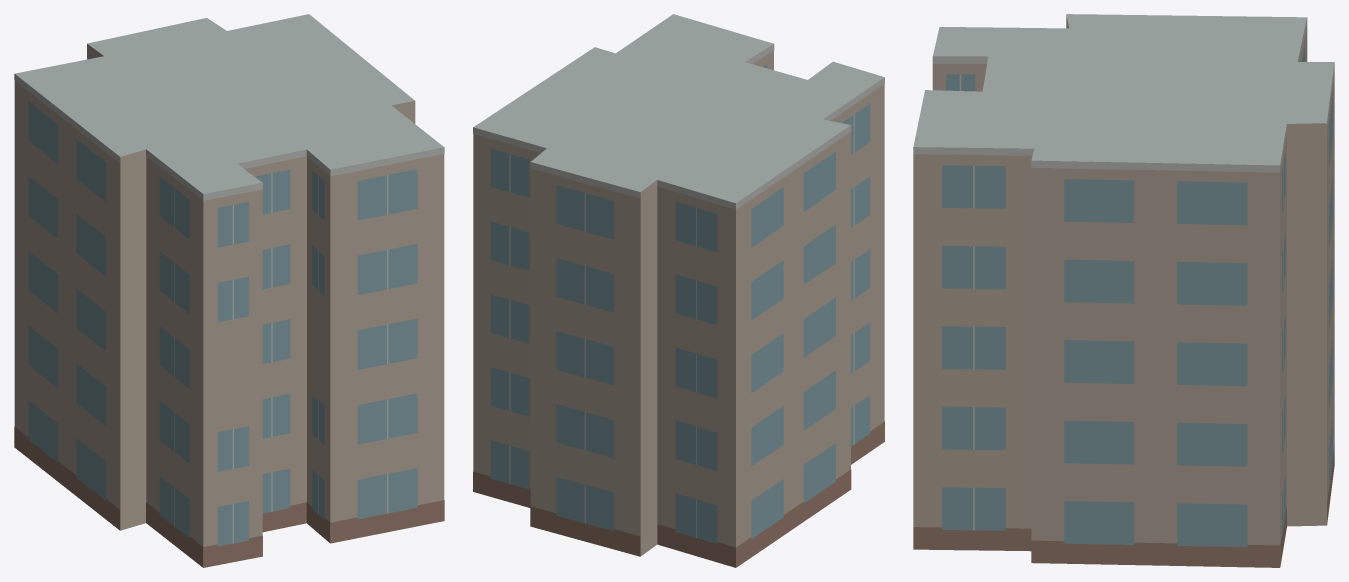
The model's file is survey-upis-32719124.glb.
3 views of the same model, side by side, from view 1: azimuth 30°, elevation 25°; view 2: azimuth 150°, elevation 25°; view 3: azimuth 270°, elevation 25° (orthographic). The views are drawn at different scales.
Visible parts, largest first — view 1: survey-upis-32719124.tmp; view 2: survey-upis-32719124.tmp; view 3: survey-upis-32719124.tmp.
Boxes of the visible parts, x1,y1,x2,y2 form: survey-upis-32719124.tmp: (14,14,444,567); survey-upis-32719124.tmp: (473,14,884,567); survey-upis-32719124.tmp: (913,14,1334,567).
Size of the model in its own units: 11.06 by 13.7 by 13.01.
